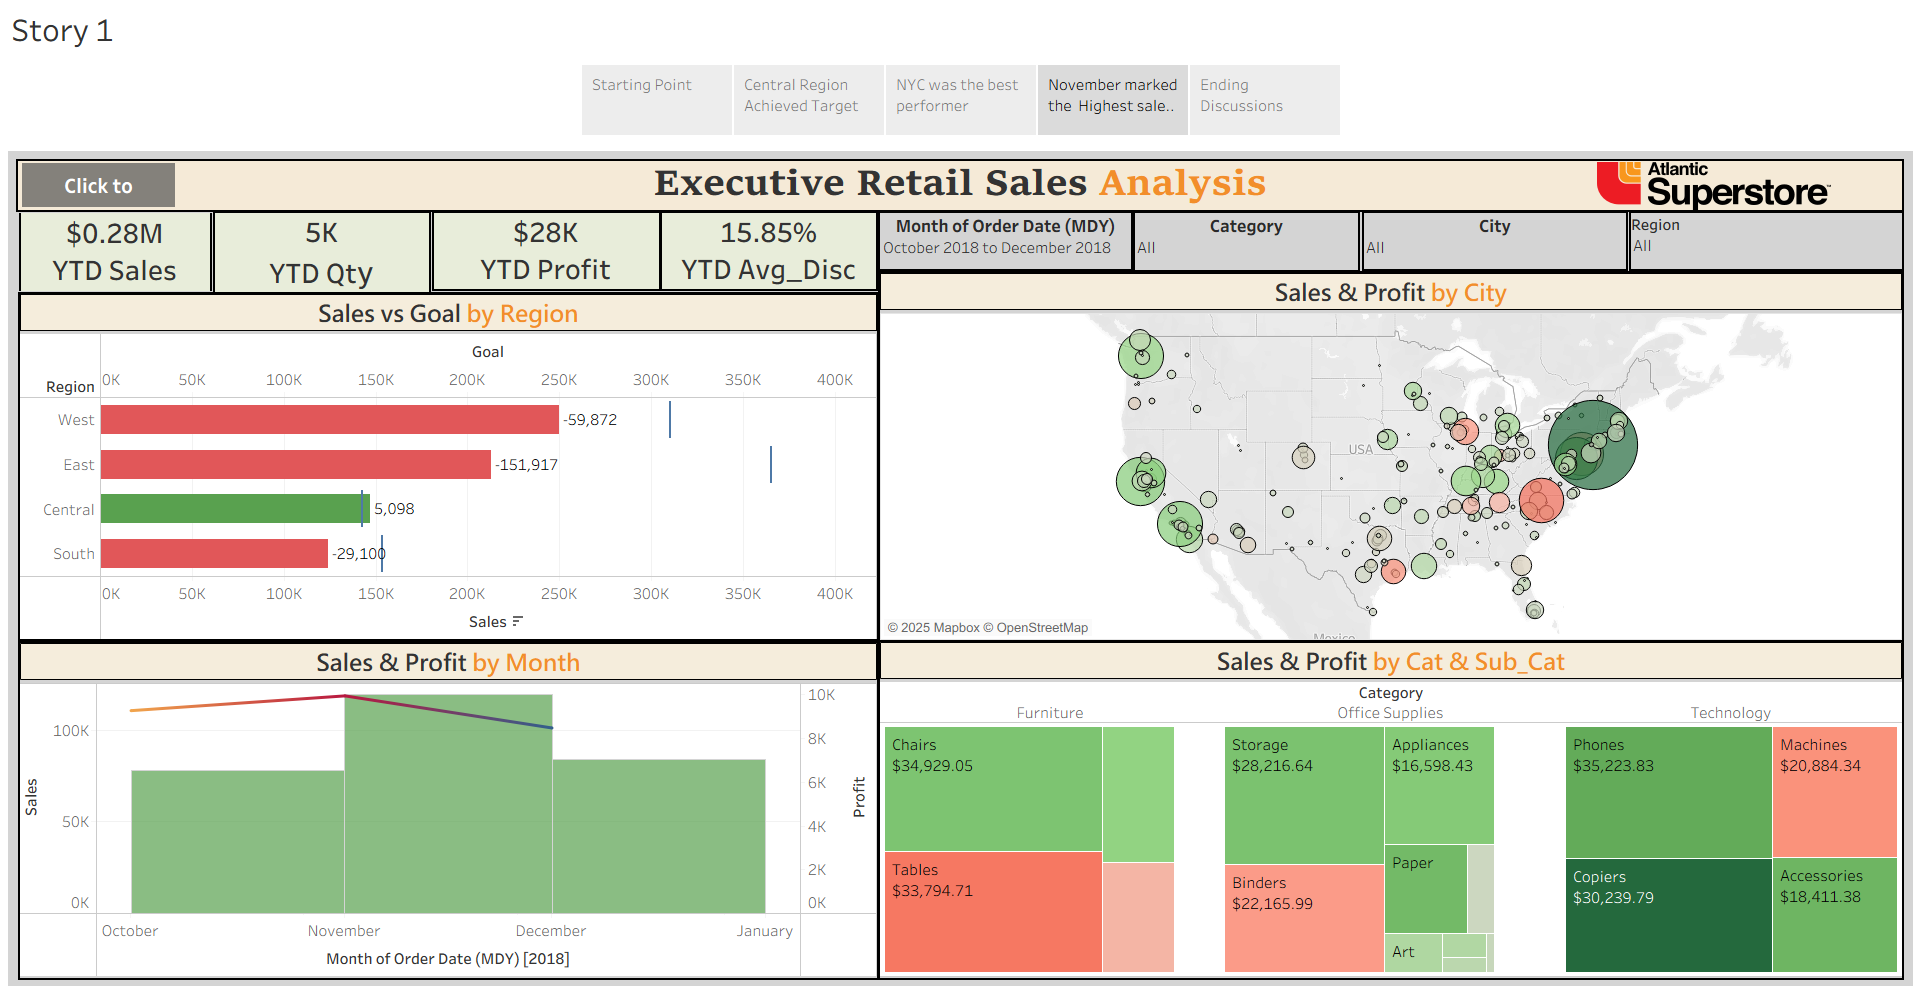

The page's visual inventory and layout, read from the dashboard file:
{"tool":"tableau","page":{"name":"Dashboard 1","canvas":[1000,1000],"units":"permille","ordinal":0},"visuals":[{"type":"title","box":[4.8,10,990.3,63.6]},{"type":"image","param":"Image/atlantic-superstore-2017.svg","box":[834.6,13.7,158.7,59.9]},{"type":"dashboard-object","box":[7.2,15,80.3,52.4]},{"type":"worksheet","title":"Quantity","mark":"Automatic","box":[105,69.9,122.5,116.1]},{"type":"worksheet","title":"Profit","mark":"Automatic","box":[226.3,69.9,97.2,119.9]},{"type":"worksheet","title":"Discount","mark":"Automatic","box":[322.3,69.9,135.2,216]},{"type":"worksheet","title":"Sales","mark":"Automatic","box":[4.2,72.4,102.6,99.9]},{"type":"filter","title":"Time_Series","param":"[federated.0xhq3lh1d73h9h12l06ax1aoxa5d].[tmn:Order Date (MDY):qk]","box":[456.9,72.4,134,71.2]},{"type":"filter","title":"Tree_Map","param":"[federated.0xhq3lh1d73h9h12l06ax1aoxa5d].[none:Category:nk]","box":[590.8,72.4,119.5,72.4]},{"type":"filter","title":"City_Wise","param":"[federated.0xhq3lh1d73h9h12l06ax1aoxa5d].[none:City:nk]","box":[710.9,72.4,140,71.2]},{"type":"filter","title":"Region_Wise","param":"[federated.0xhq3lh1d73h9h12l06ax1aoxa5d].[none:Region:nk]","box":[851.5,72.4,144.2,71.2]},{"type":"worksheet","title":"City_Wise","mark":"Automatic","box":[457.1,143.6,538.7,444.4]},{"type":"worksheet","title":"Region_Wise","mark":"Automatic","rows":["Region"],"cols":["Sales","Goal"],"box":[5.5,168.5,452.1,419.5]},{"type":"worksheet","title":"Tree_Map","mark":"Automatic","cols":["Category"],"box":[457.1,586.8,538.7,407]},{"type":"worksheet","title":"Time_Series","mark":"Automatic","rows":["Sales","Profit"],"cols":["Order Date (MDY)"],"box":[5.4,588,452.3,405.7]}]}

Visuals, with their boxes on the dashboard's canvas, which has no fixed pixel size, in thousandths of its width and height (x1, y1, x2, y2). These are canvas units, not pixel positions in the 1920x993 screenshot, which may show the page scaled, cropped or inside an application window:
title: BBox(5, 10, 995, 74)
image: BBox(835, 14, 993, 74)
dashboard-object: BBox(7, 15, 88, 67)
"Quantity" worksheet: BBox(105, 70, 228, 186)
"Profit" worksheet: BBox(226, 70, 324, 190)
"Discount" worksheet: BBox(322, 70, 458, 286)
"Sales" worksheet: BBox(4, 72, 107, 172)
"Time_Series" filter: BBox(457, 72, 591, 144)
"Tree_Map" filter: BBox(591, 72, 710, 145)
"City_Wise" filter: BBox(711, 72, 851, 144)
"Region_Wise" filter: BBox(852, 72, 996, 144)
"City_Wise" worksheet: BBox(457, 144, 996, 588)
"Region_Wise" worksheet: BBox(6, 168, 458, 588)
"Tree_Map" worksheet: BBox(457, 587, 996, 994)
"Time_Series" worksheet: BBox(5, 588, 458, 994)
